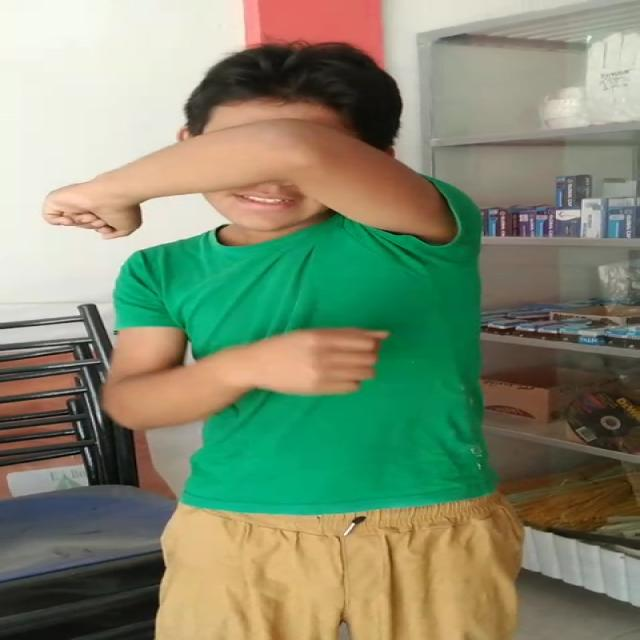7_mano_rostro: (40, 118, 413, 241)
